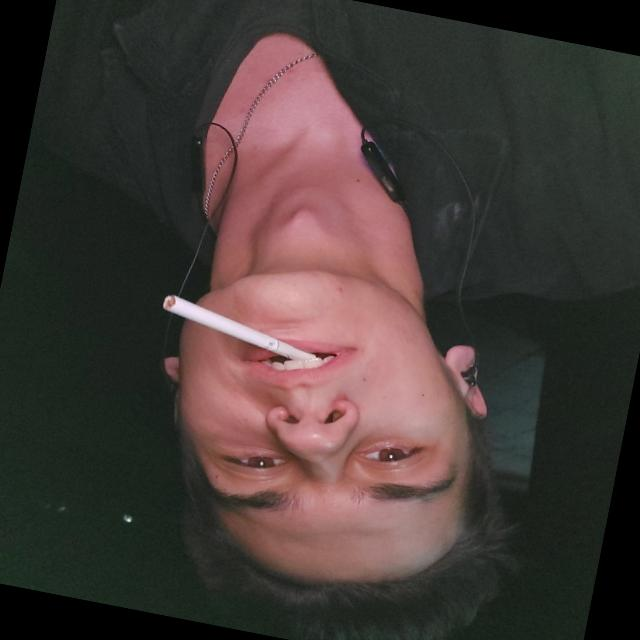cigarette: (150, 289, 333, 374)
